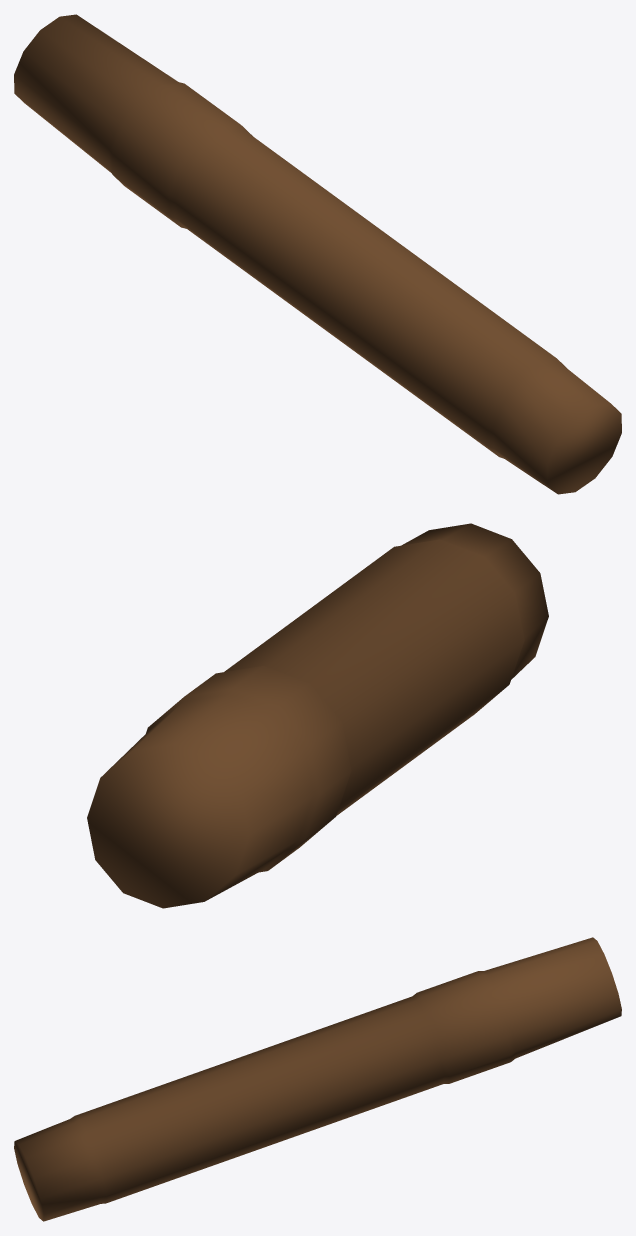
Rendered from cigar.glb.
3 views of the same model, one above another, from view 1: azimuth 30°, elevation 25°; view 2: azimuth 150°, elevation 25°; view 3: azimuth 270°, elevation 25° (orthographic). The views are drawn at different scales.
Visible parts, largest first — view 1: cigar; view 2: cigar; view 3: cigar.
Part boxes in pixels (<box>): cigar: <box>14,14,621,494</box>; cigar: <box>87,523,548,908</box>; cigar: <box>14,937,621,1221</box>.
Bounding box in the file's own units: 0.0445 × 0.0425 × 0.111.
